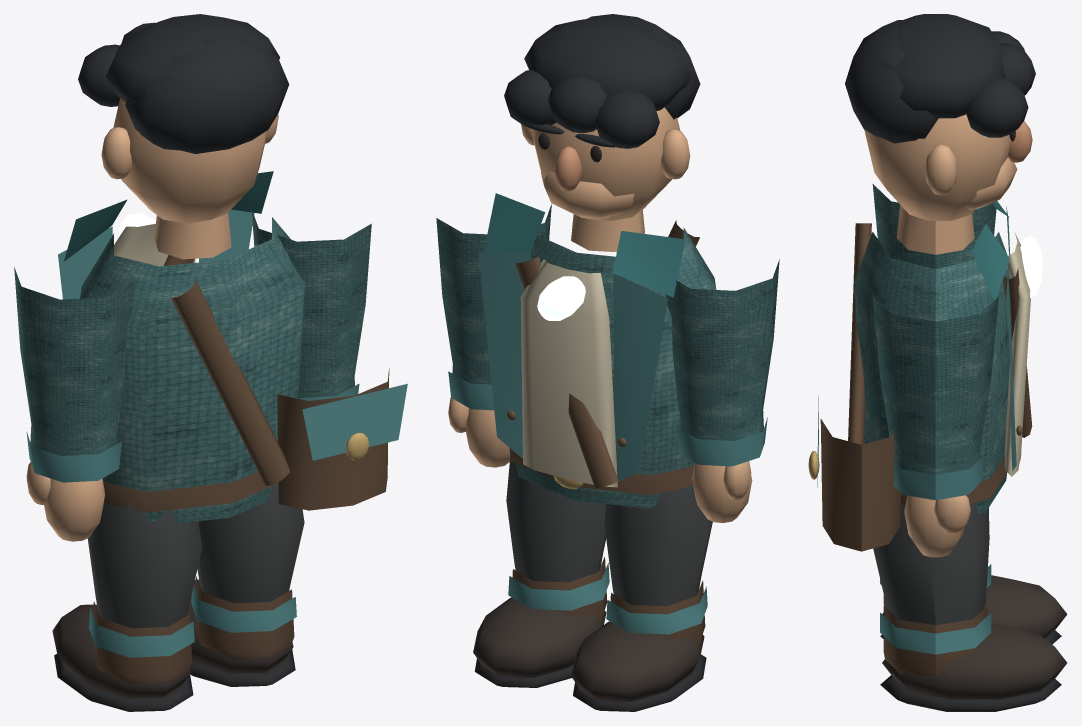
File: explorer_lowpoly.glb
The picture shows the model from 3 angles, left to right: view 1: azimuth 30°, elevation 25°; view 2: azimuth 150°, elevation 25°; view 3: azimuth 270°, elevation 25°; orthographic projection. The views are drawn at different scales.
Parts seen in each view (by area): view 1: Coat, Sleeve, HairBack, Trouser, Sleeve2, Head, Trouser2, Bag, BackStrap, HairTop, BagFlap, BootToe (+19 smaller); view 2: Shirt, Sleeve, Trouser, Coat, HairTop, Trouser2, CoatLapel, BootToe, BootToe2, _MeshInstance3D_2, Sleeve2, Head (+25 smaller); view 3: Sleeve2, Coat, Trouser2, HairTop, Head, Bag, BootToe2, HairBack, BootToe, Shirt, Sleeve, BootShaft2 (+17 smaller).
Boxes of the visible parts, <box> form: Coat: <box>80,217,304,523</box>; Sleeve: <box>14,266,134,455</box>; HairBack: <box>125,39,289,153</box>; Trouser: <box>87,501,202,628</box>; Sleeve2: <box>251,209,371,397</box>; Head: <box>113,98,267,223</box>; Trouser2: <box>197,485,304,603</box>; Bag: <box>277,368,389,510</box>; BackStrap: <box>171,280,290,485</box>; HairTop: <box>105,14,279,102</box>; BagFlap: <box>302,383,407,460</box>; BootToe: <box>52,604,191,698</box>; Shirt: <box>520,259,617,487</box>; Sleeve: <box>665,259,779,440</box>; Trouser: <box>604,487,712,606</box>; Coat: <box>515,227,716,508</box>; HairTop: <box>524,17,691,110</box>; Trouser2: <box>506,458,606,582</box>; CoatLapel: <box>613,274,667,481</box>; BootToe: <box>571,621,704,701</box>; BootToe2: <box>473,597,606,677</box>; _MeshInstance3D_2: <box>478,252,530,458</box>; Sleeve2: <box>436,204,551,384</box>; Head: <box>531,107,680,220</box>; Sleeve2: <box>872,297,998,474</box>; Coat: <box>854,232,1010,514</box>; Trouser2: <box>873,502,989,625</box>; HairTop: <box>881,14,1005,118</box>; Head: <box>864,114,1010,220</box>; Bag: <box>820,418,900,551</box>; BootToe2: <box>882,624,1067,699</box>; HairBack: <box>845,20,938,143</box>; BootToe: <box>882,575,1067,638</box>; Shirt: <box>1004,233,1030,476</box>; Sleeve: <box>872,184,996,269</box>; BootShaft2: <box>883,606,987,676</box>.
Bounding box in the file's own units: 1.04 × 1.92 × 0.698.
Materials: 50 (3 with a texture image).
